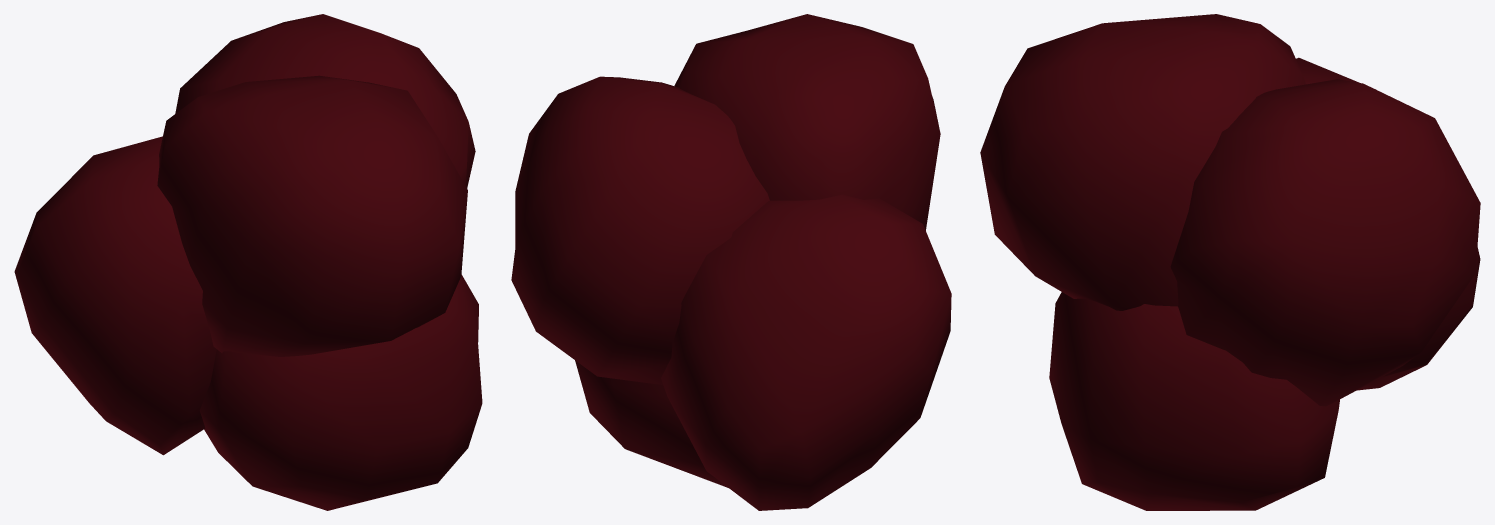
Rendered from Cotton.fbx.
The picture shows the model from 3 angles, left to right: view 1: azimuth 30°, elevation 25°; view 2: azimuth 150°, elevation 25°; view 3: azimuth 270°, elevation 25°; orthographic projection. The views are drawn at different scales.
Visible parts, largest first — view 1: Cotton_LOD0; view 2: Cotton_LOD0; view 3: Cotton_LOD0.
Boxes of the visible parts, x1,y1,x2,y2 form: Cotton_LOD0: (14, 14, 482, 510); Cotton_LOD0: (511, 14, 951, 510); Cotton_LOD0: (980, 14, 1480, 510).
Size of what is drawn, in the model's own units: 0.2661 by 0.2552 by 0.2656.
